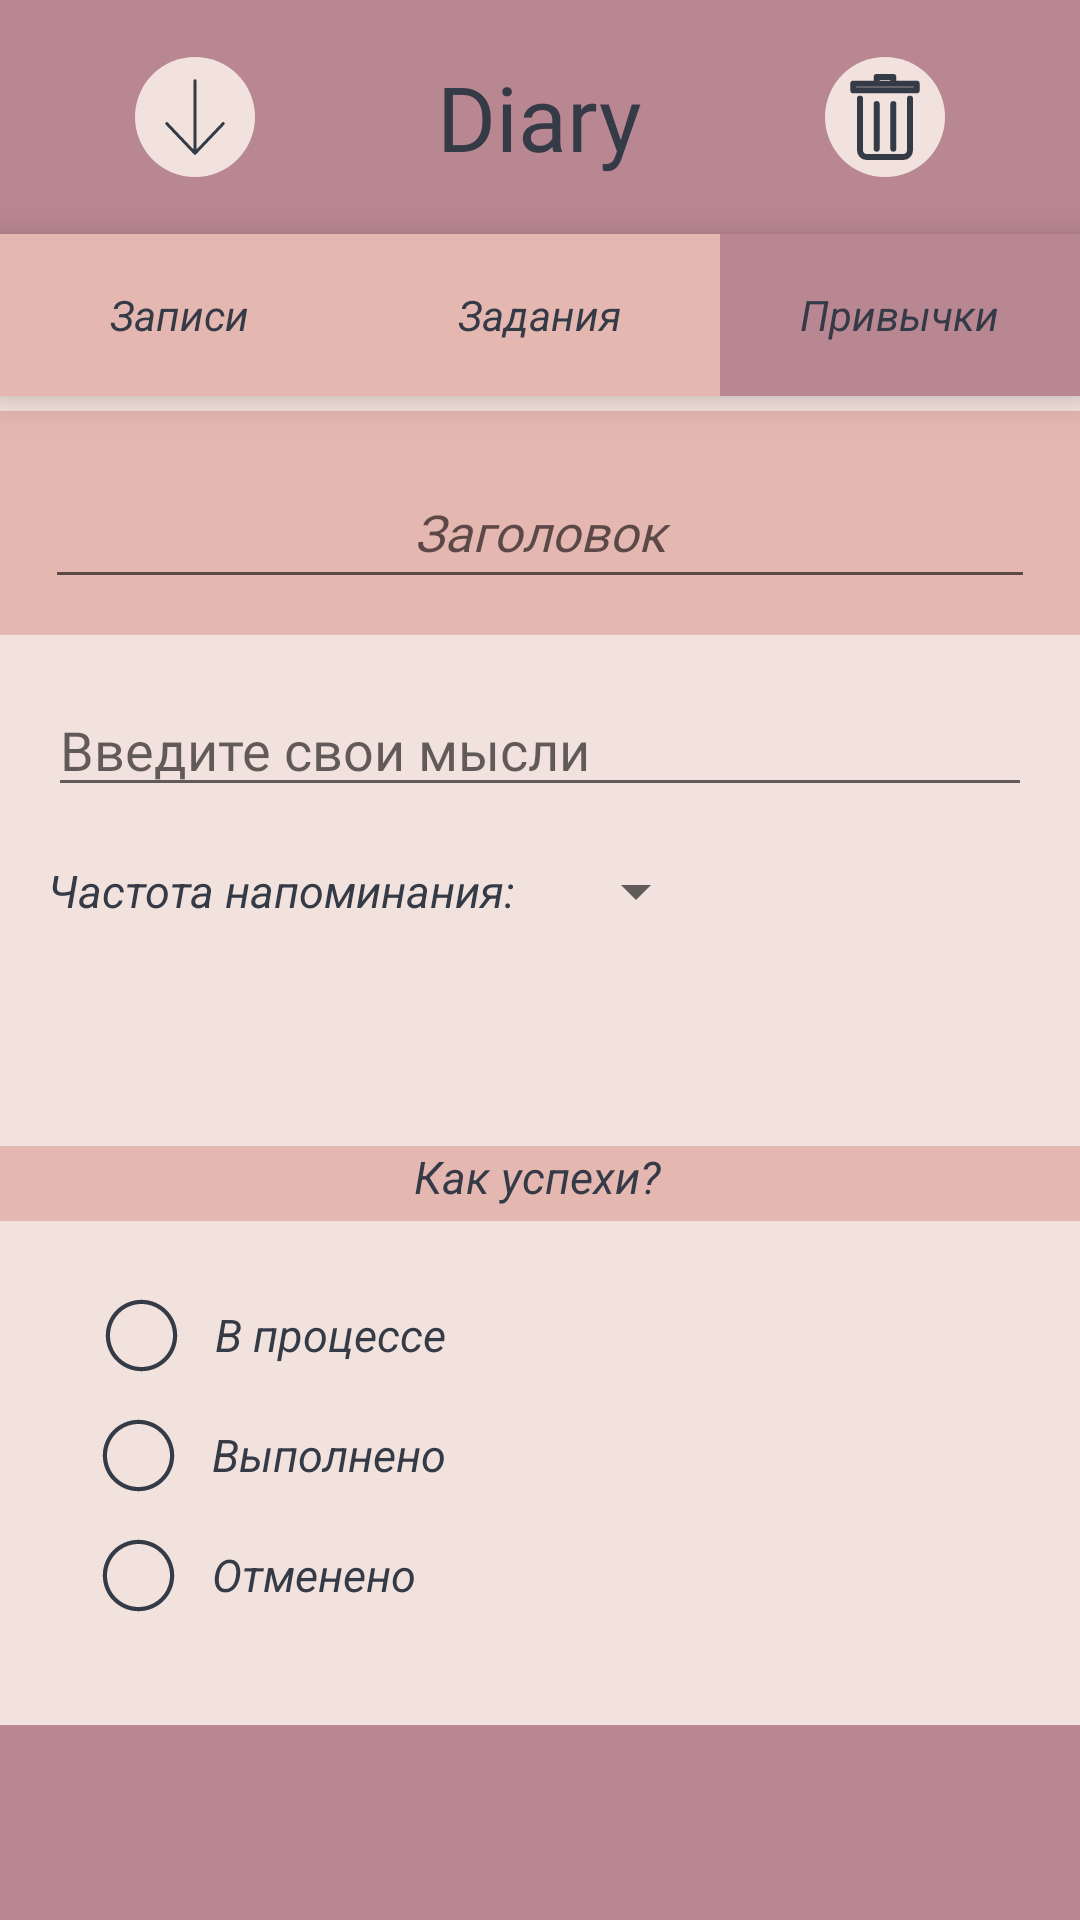

Screen size 1080 x 1920. Icon name, then its center in pixels as (x,y):
delete: (885,117)
save: (195,117)
